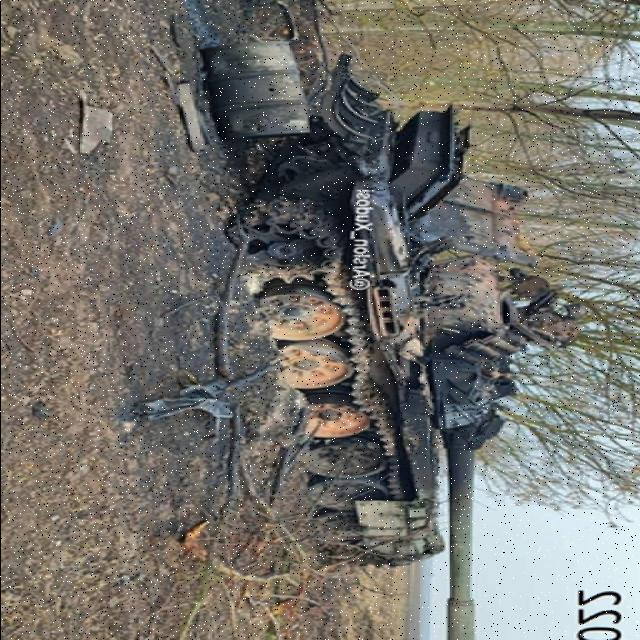TANK: (211, 95, 562, 640)
